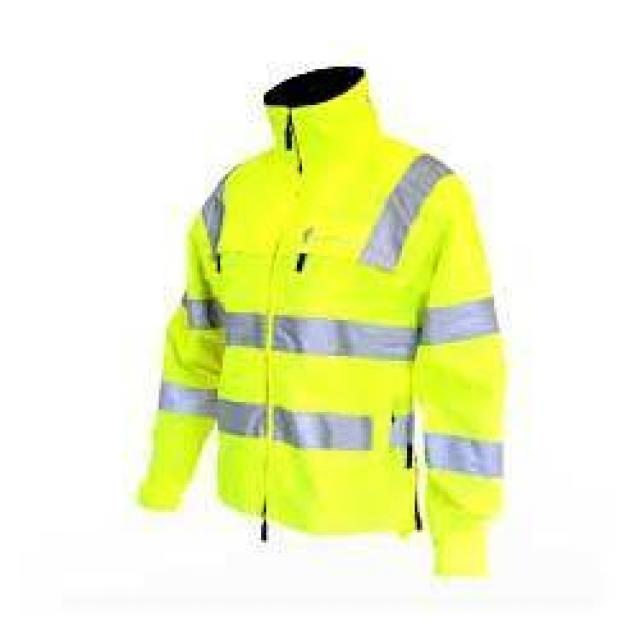Reflective-Jacket: (128, 113, 527, 558)
